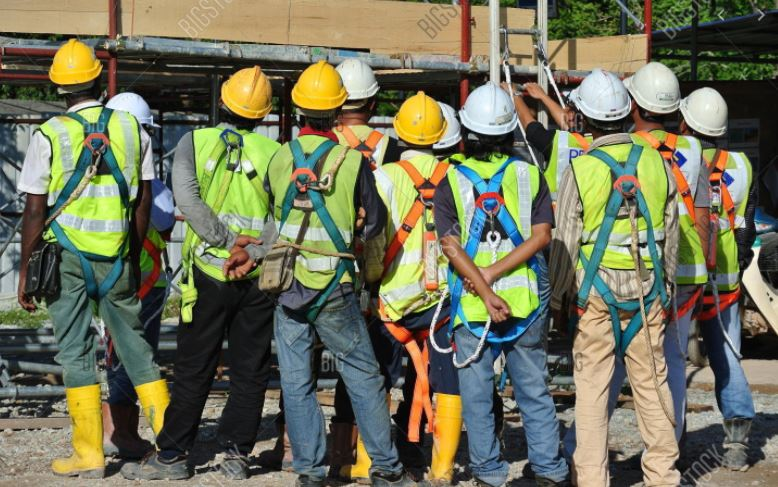Safety Helmet: (445, 69, 528, 161), (204, 56, 283, 144), (37, 29, 107, 120), (568, 59, 639, 145), (614, 55, 685, 130), (388, 78, 450, 163), (289, 50, 345, 141), (675, 76, 739, 155), (330, 43, 382, 120), (105, 80, 167, 139)
